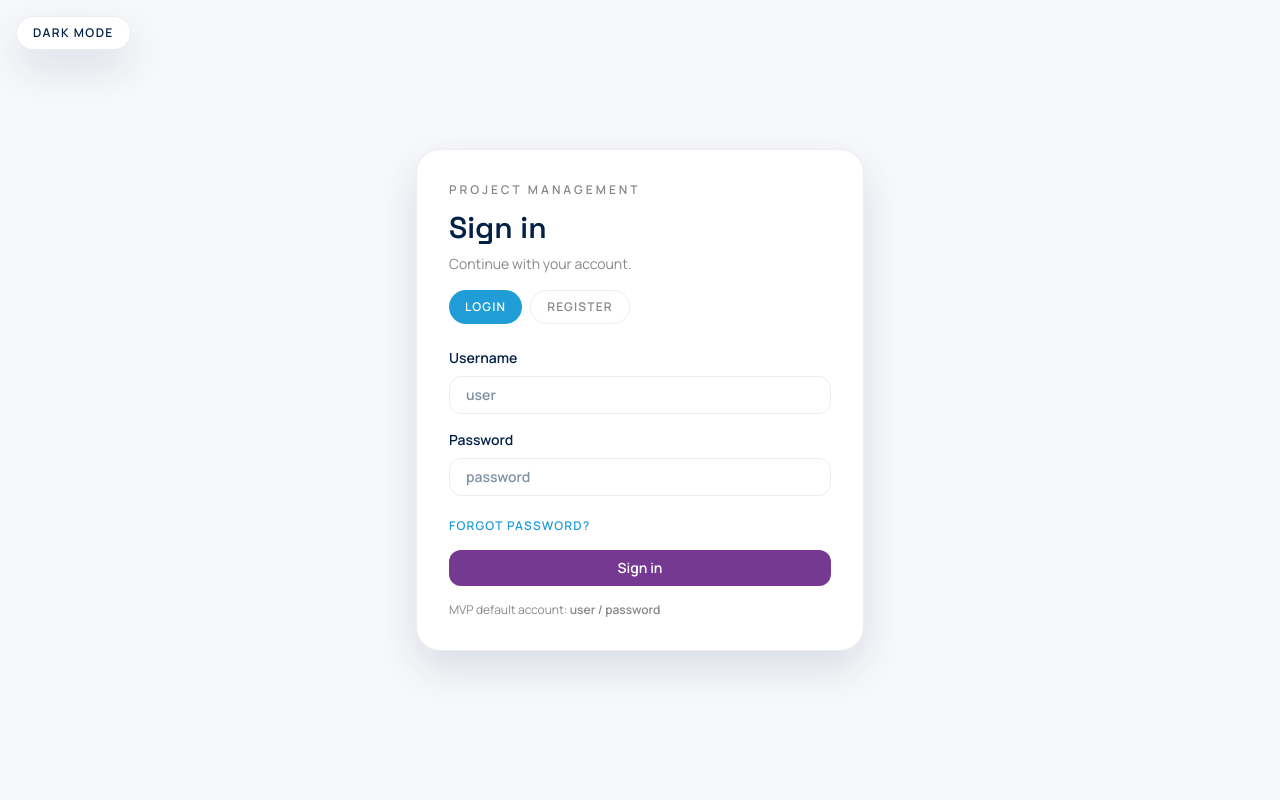
Test case: AuthGate › toggles and persists theme
Click the button with aria-label "toggle theme" at (73, 33), box [16,16,131,50]
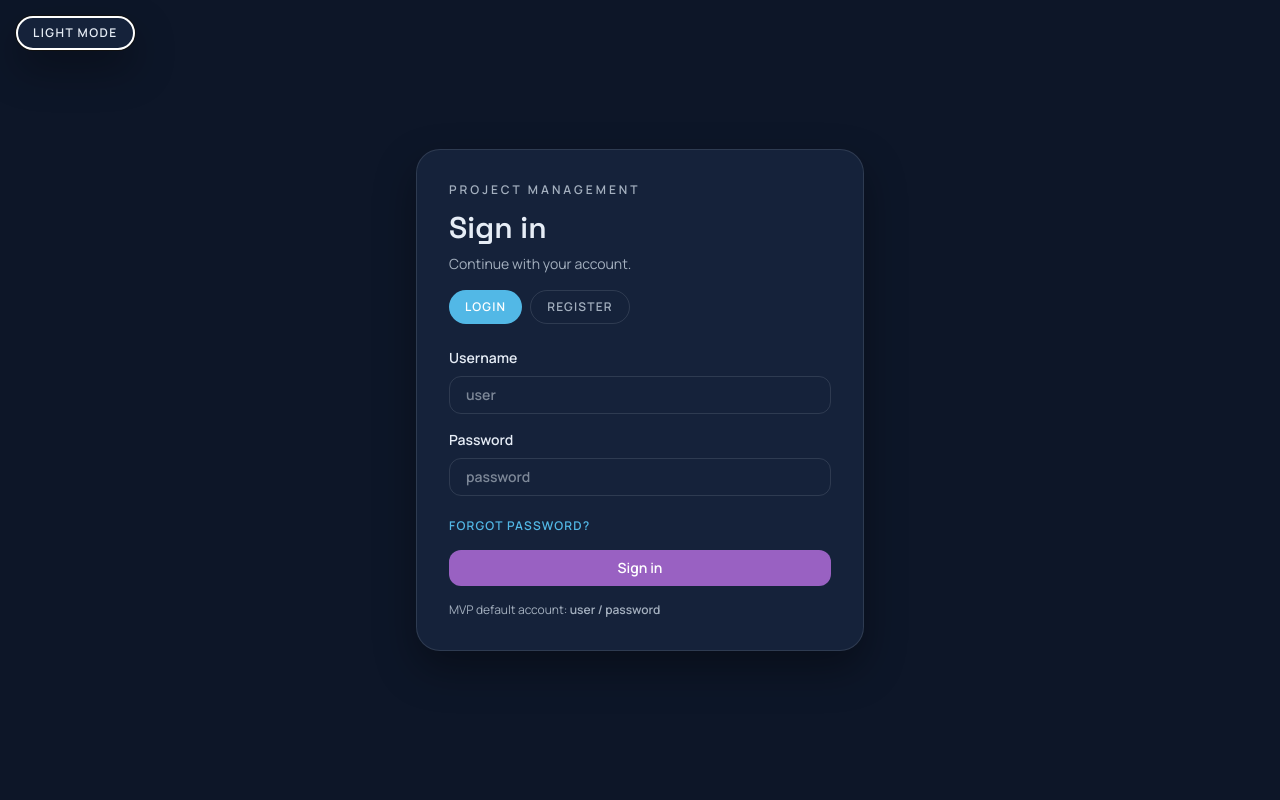
Expected: the button with aria-label "toggle theme" reads "Light mode", [16,16,135,50]
